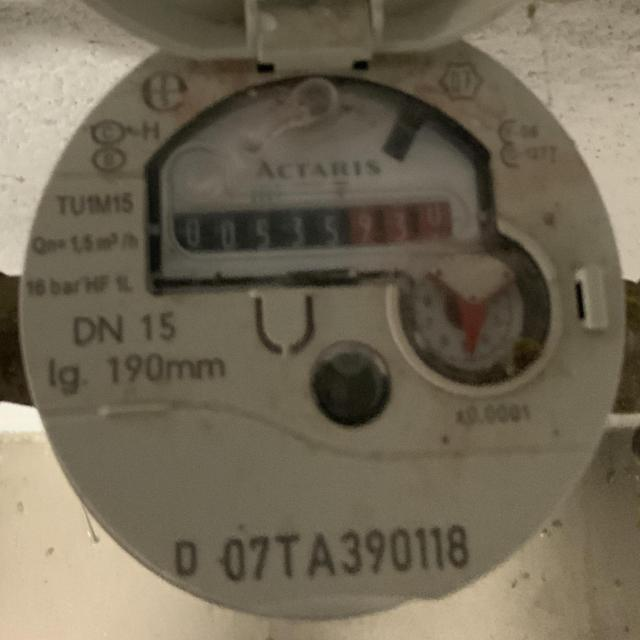gaz_meter: (20, 27, 625, 620)
indication: (173, 191, 457, 257)
